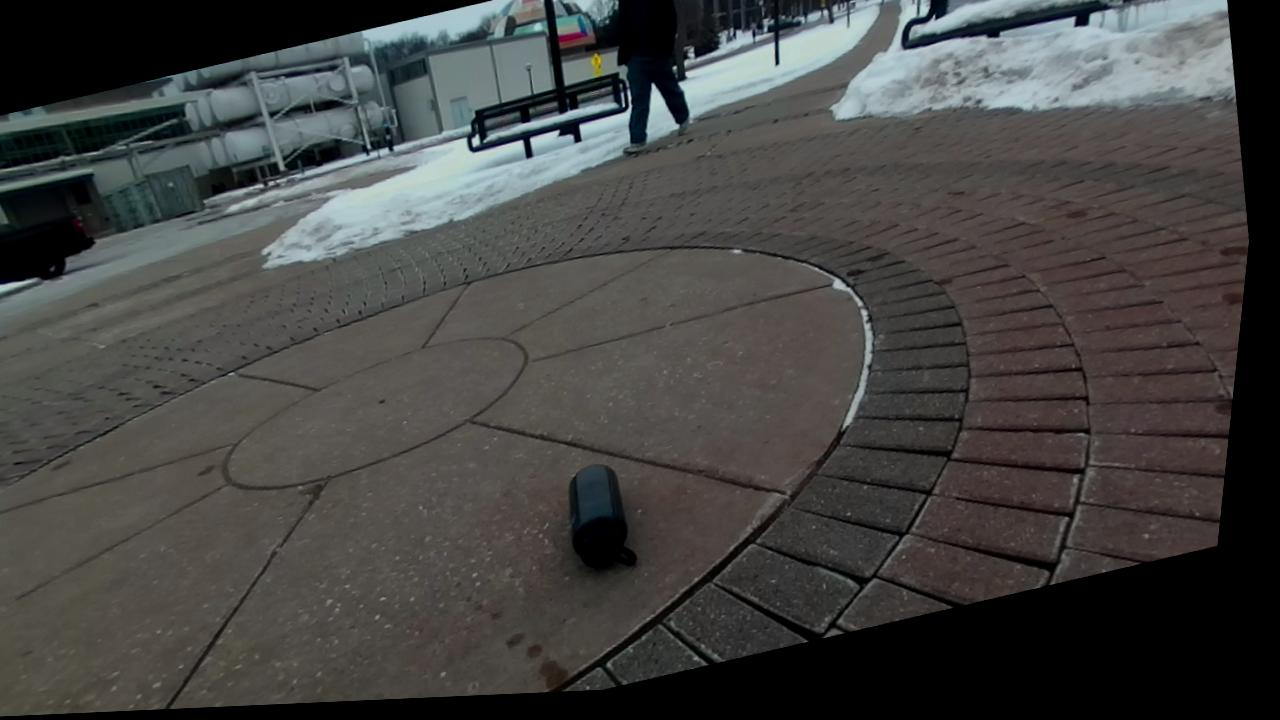bottle: (568, 464, 634, 566)
